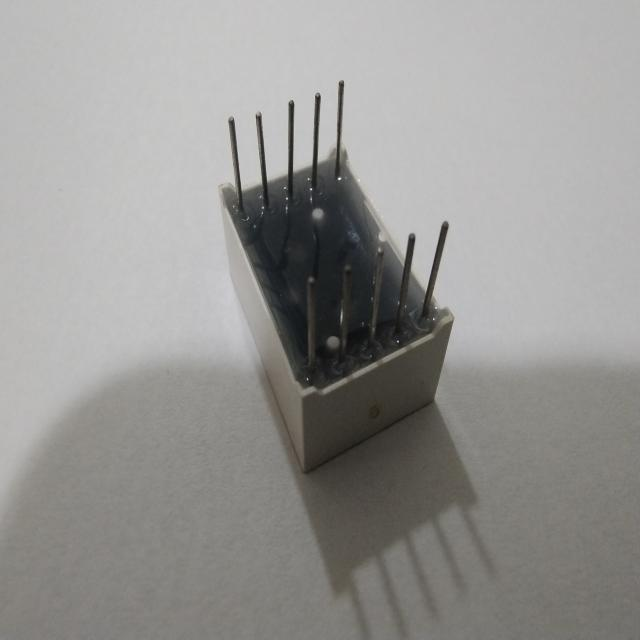7_segments: (210, 74, 462, 481)
